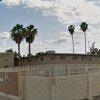Palm tree: (11, 17, 41, 62)
